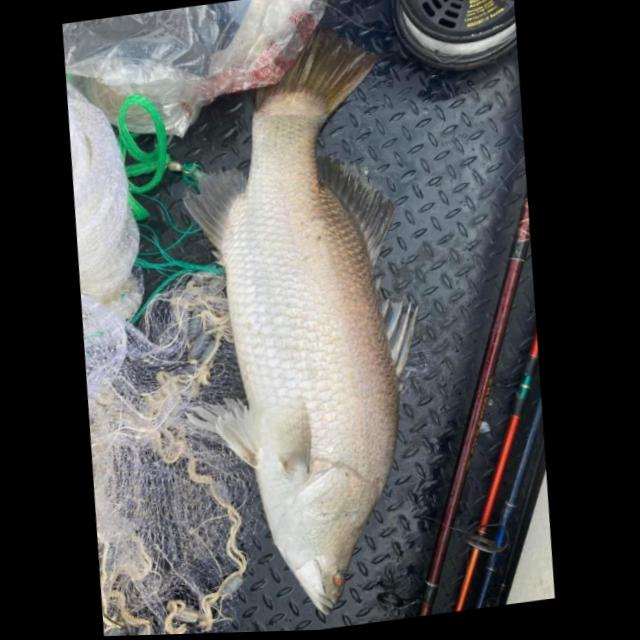Seabass: (138, 16, 464, 633)
